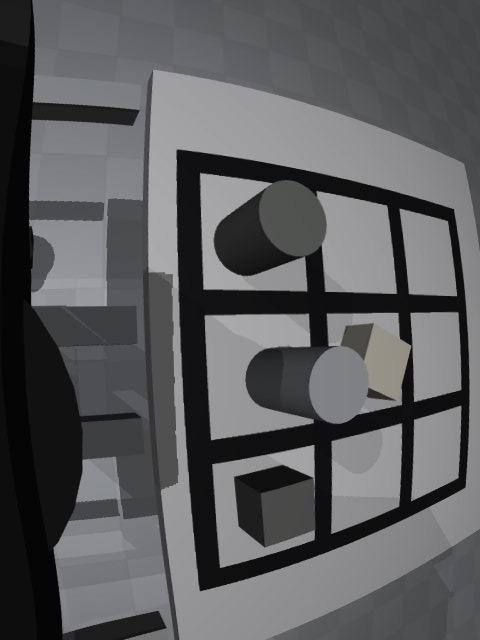can: (245, 346, 369, 424)
cube: (234, 465, 316, 548)
cylinder: (213, 180, 327, 276)
foam: (341, 323, 411, 401)
